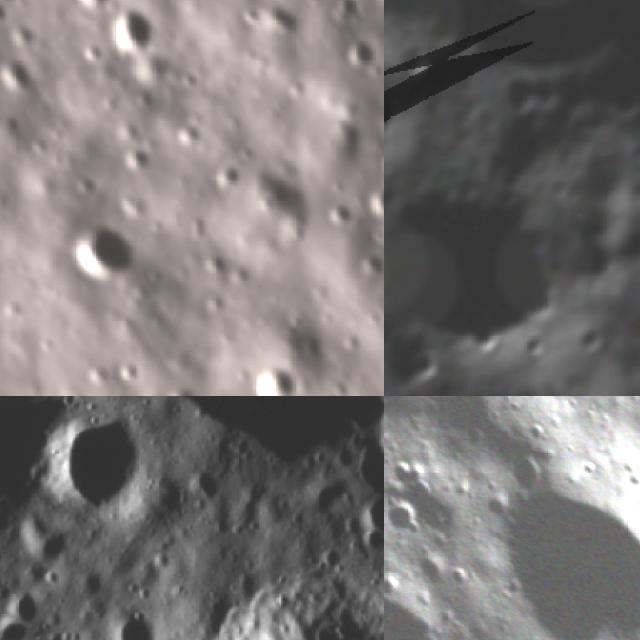crater: (384, 138, 596, 396), (7, 396, 384, 526), (490, 468, 640, 640), (171, 543, 384, 640), (23, 396, 164, 539), (0, 396, 93, 530), (50, 203, 154, 309), (384, 46, 449, 195), (88, 0, 182, 88), (558, 144, 636, 222), (329, 421, 384, 499), (88, 593, 171, 640), (246, 350, 315, 396), (501, 67, 556, 122), (27, 520, 81, 574), (347, 471, 384, 547), (1, 577, 55, 628), (182, 459, 237, 508), (51, 0, 129, 32), (384, 489, 430, 543), (322, 0, 384, 39), (606, 211, 640, 279), (339, 33, 384, 82), (402, 349, 445, 391), (358, 175, 384, 233), (515, 330, 551, 367), (607, 85, 640, 125), (572, 322, 608, 358), (499, 374, 554, 396), (204, 511, 238, 544), (157, 376, 206, 396)
